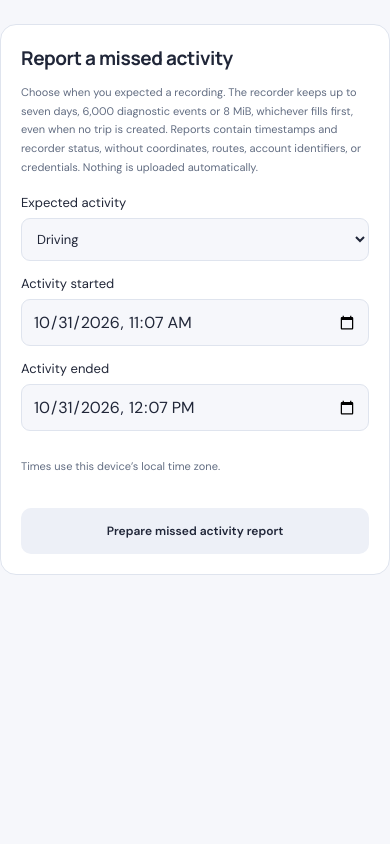
Test case: keeps a selectable report when clipboard access is unavailable
Click the button "Prepare missed activity report" at (195, 531), box [21,508,369,554]
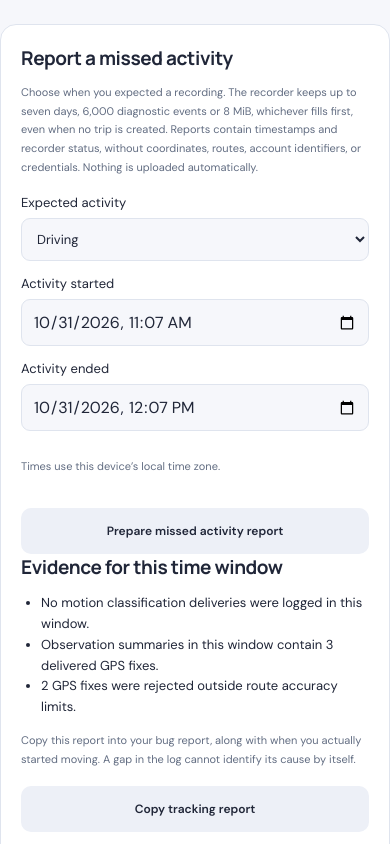
Click the button "Copy tracking report" at (195, 809), box [21,786,369,832]
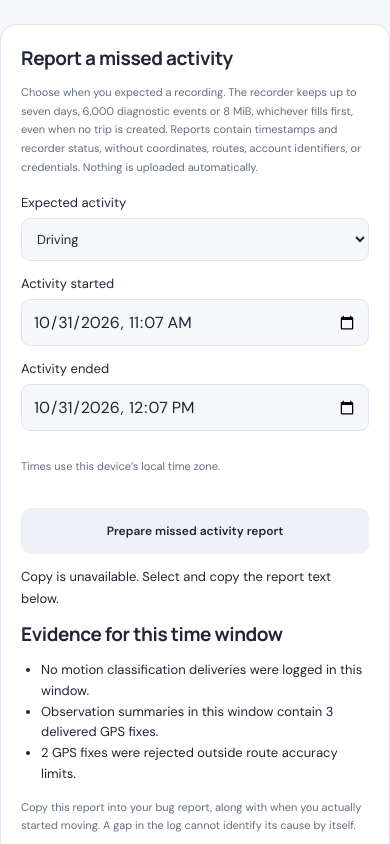
Check: the message shows "Select and copy", box [21,568,331,606]
